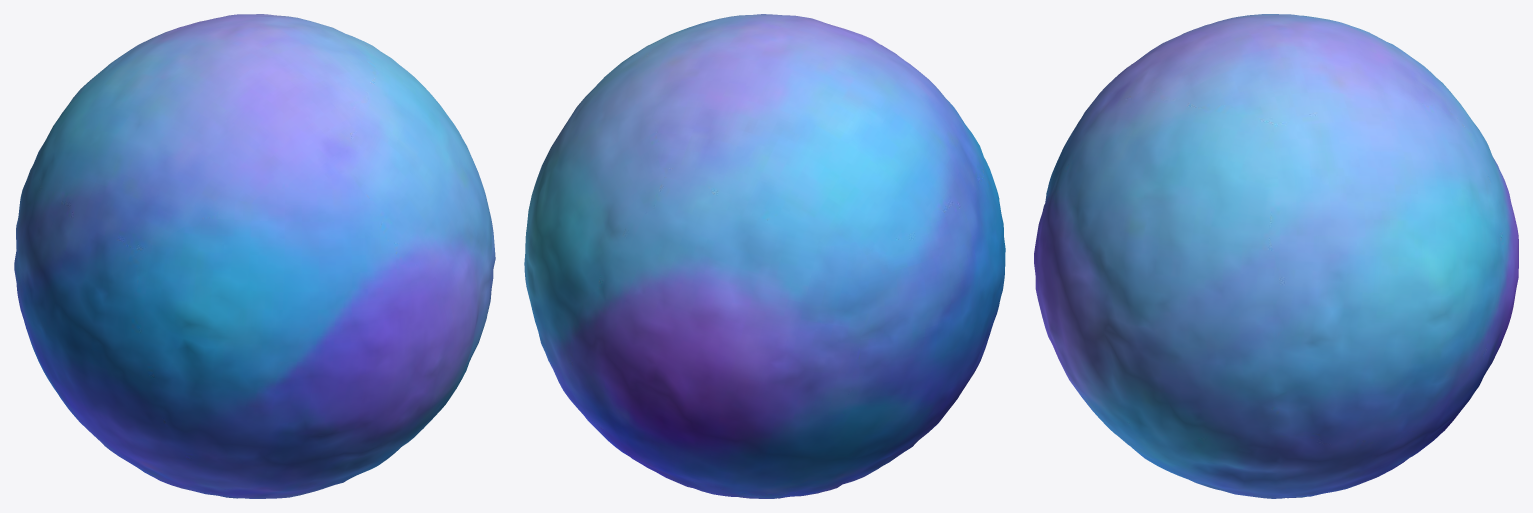
3 renders of one model, left to right at view 1: azimuth 30°, elevation 25°; view 2: azimuth 150°, elevation 25°; view 3: azimuth 270°, elevation 25°, orthographic.
Parts seen in each view (by area): view 1: Mesh1; view 2: Mesh1; view 3: Mesh1.
Part boxes in pixels (box(x1,y1,x2,y2)): Mesh1: box(14, 14, 495, 498); Mesh1: box(524, 14, 1005, 498); Mesh1: box(1034, 14, 1518, 498).
Size of the model in its own units: 117 by 120 by 119.
1 material, 1 textured.
